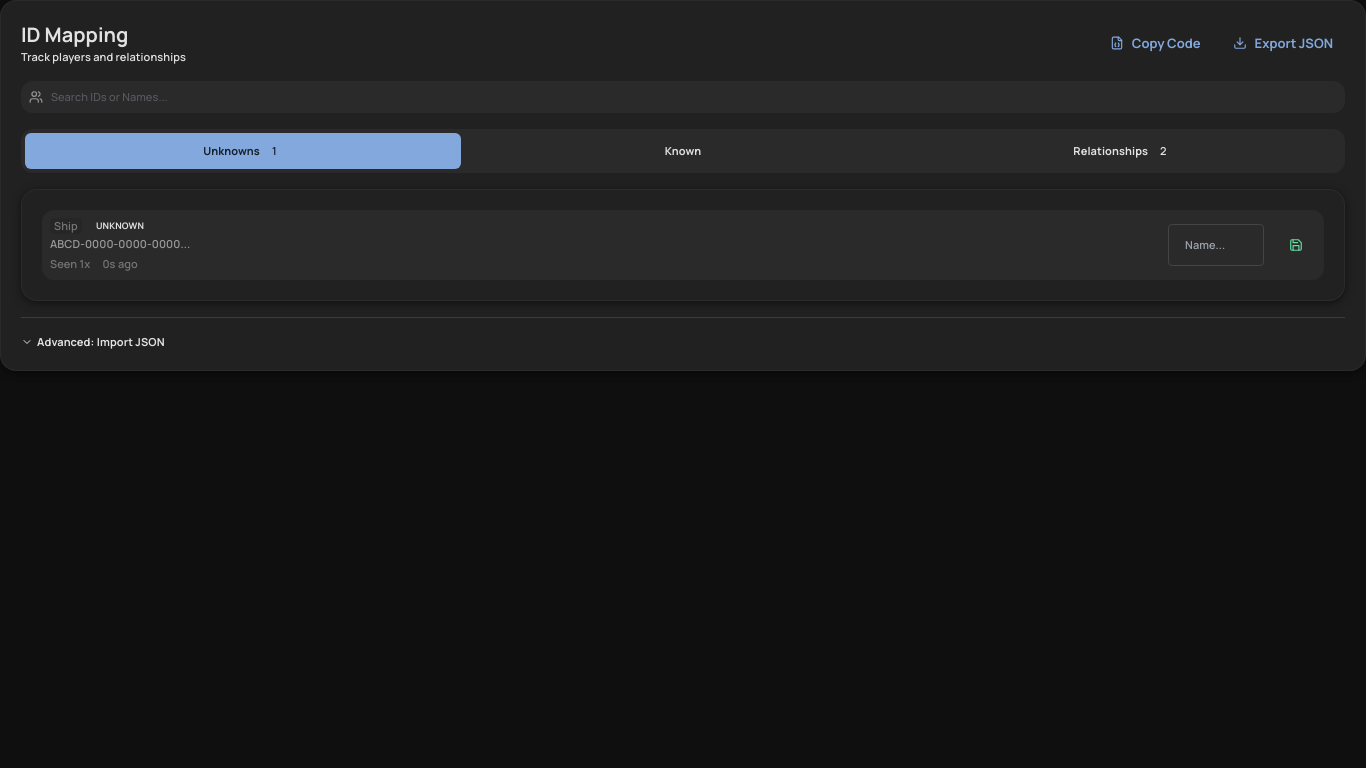
IdMapper ship mapping behavior › renders teammate identity relationship badges with confidence and recency
What coordinates should you click on to do the following:
click the button "Relationships 2"
I would click on:
 (1123, 151)
Its box is [905,133,1341,169].
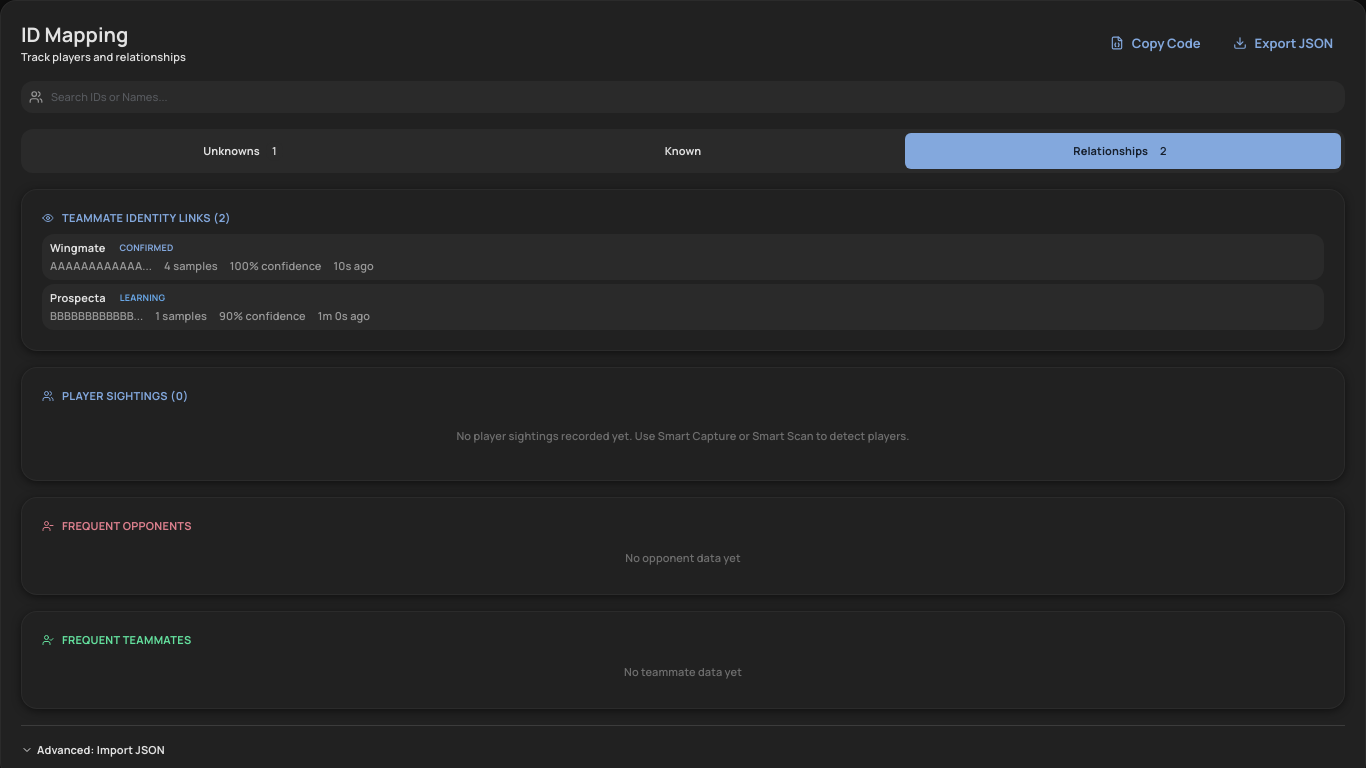
Now the heading "Teammate Identity Links (2)" is shown, box [42,210,231,225]
Now the text "Confirmed" is shown, box [120,241,173,254]
Now the text "Learning" is shown, box [120,291,165,304]
